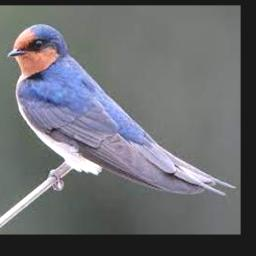Swallow: (9, 24, 236, 196)
